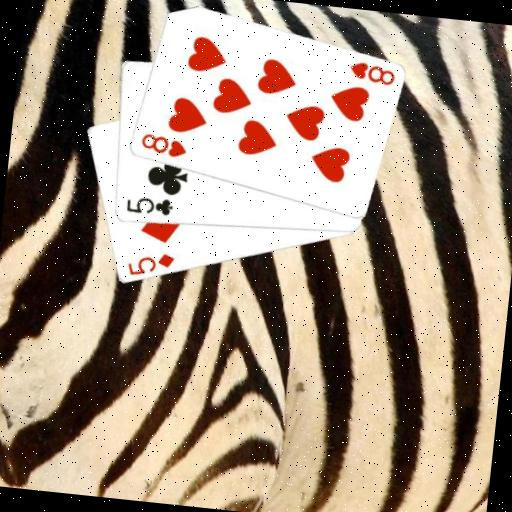5C: (123, 192, 175, 219)
5D: (123, 247, 176, 282)
8H: (137, 129, 190, 160), (346, 58, 398, 88)
